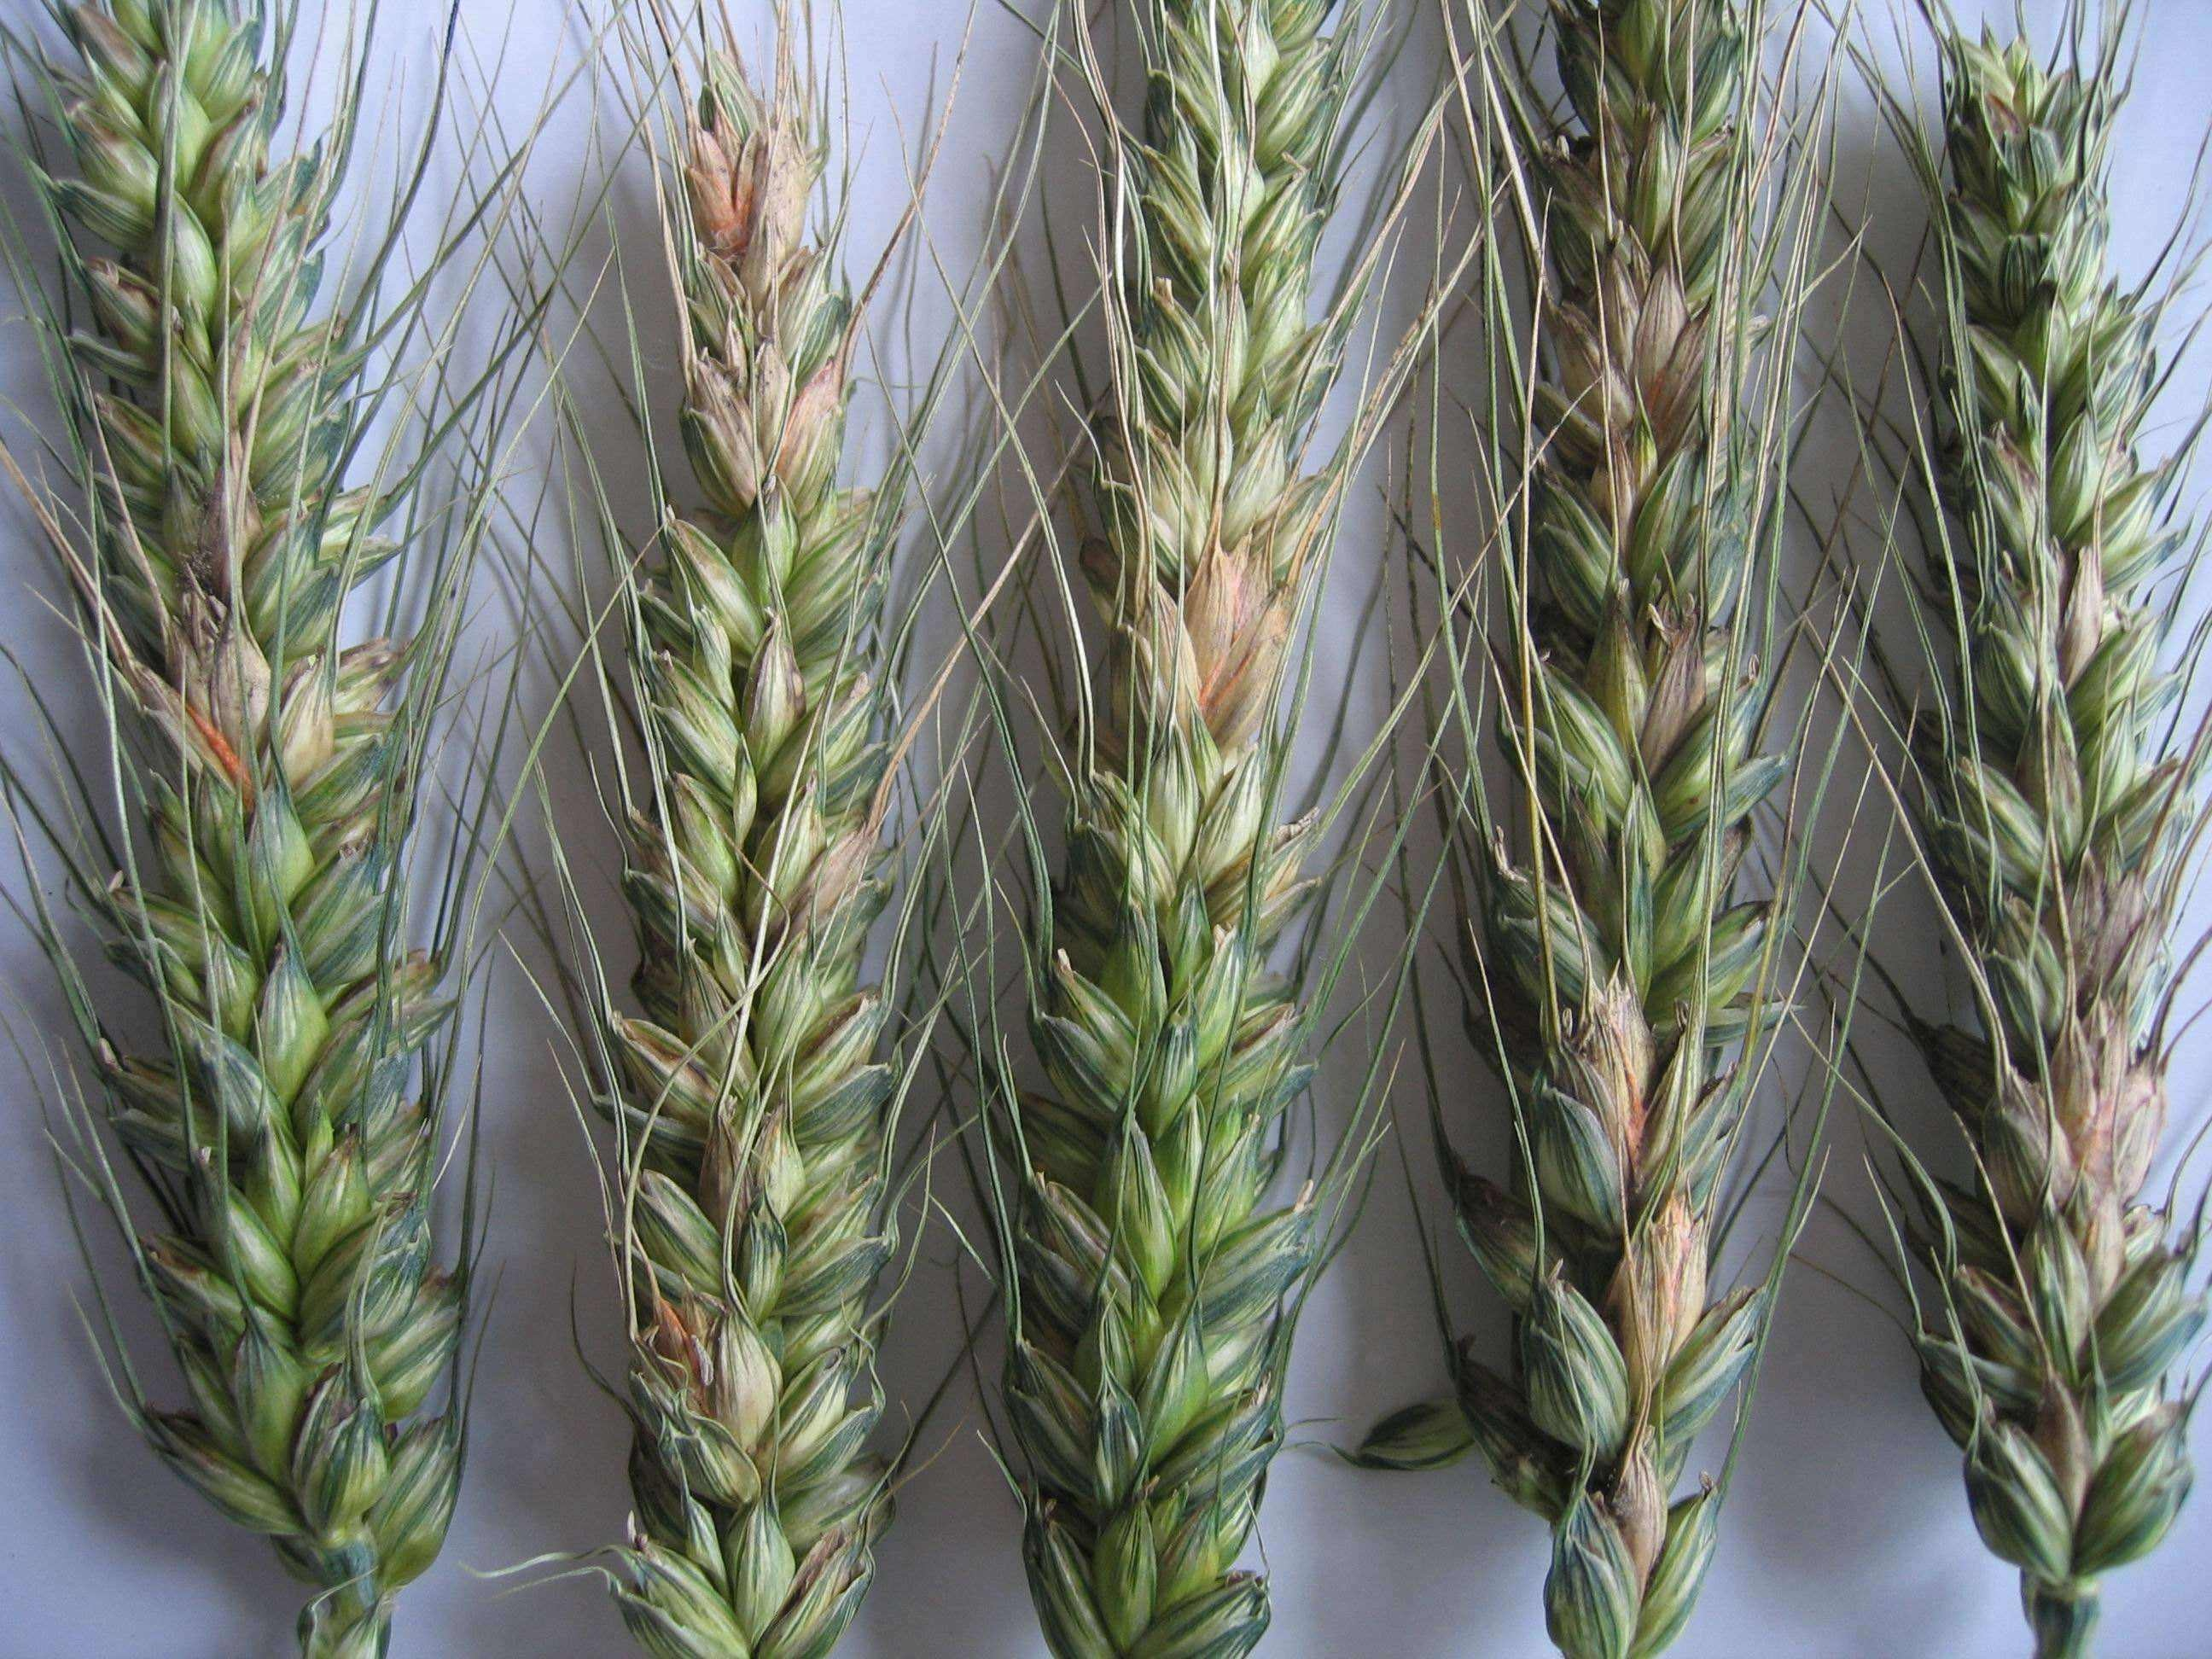Wheat scab: (35, 28, 482, 1642), (1440, 40, 1832, 1659), (542, 35, 927, 1631), (998, 3, 1359, 1657), (1883, 42, 2212, 1650)
